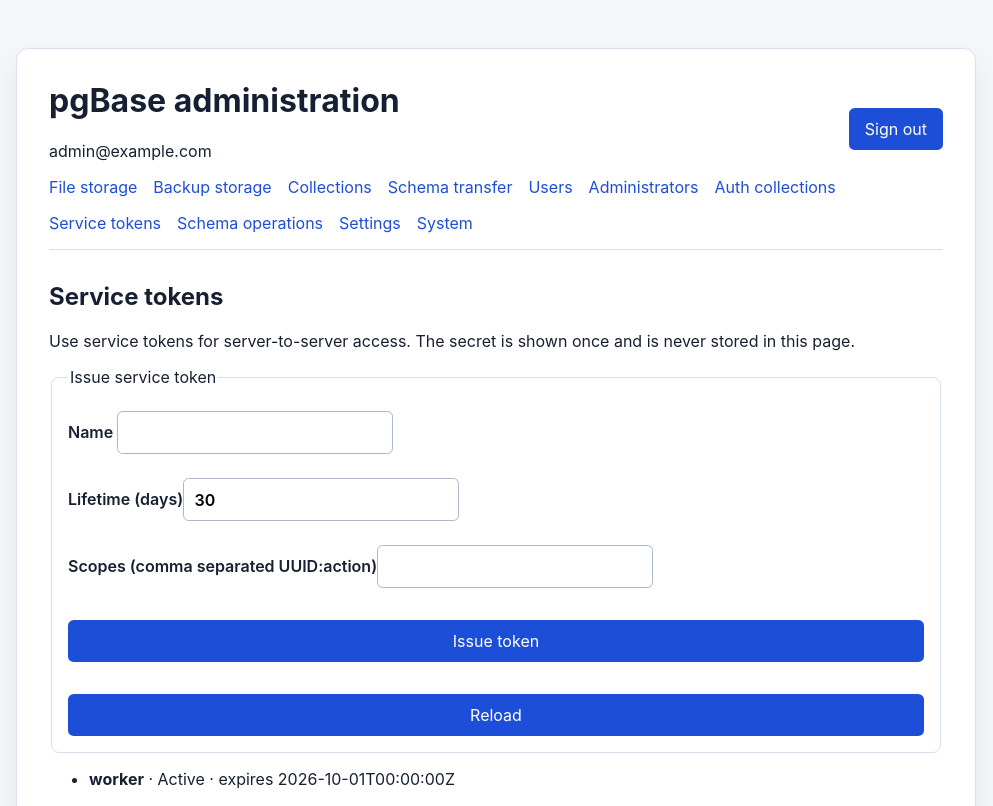
Test: service tokens page › lists, issues, reveals once, and revokes a service token
The image size is (993, 806).
expect the text "worker" is shown: met, box [89,769,144,789]
Type "exporter" into the field labelled "Name". click: (255,433)
box: [117,411,393,454]
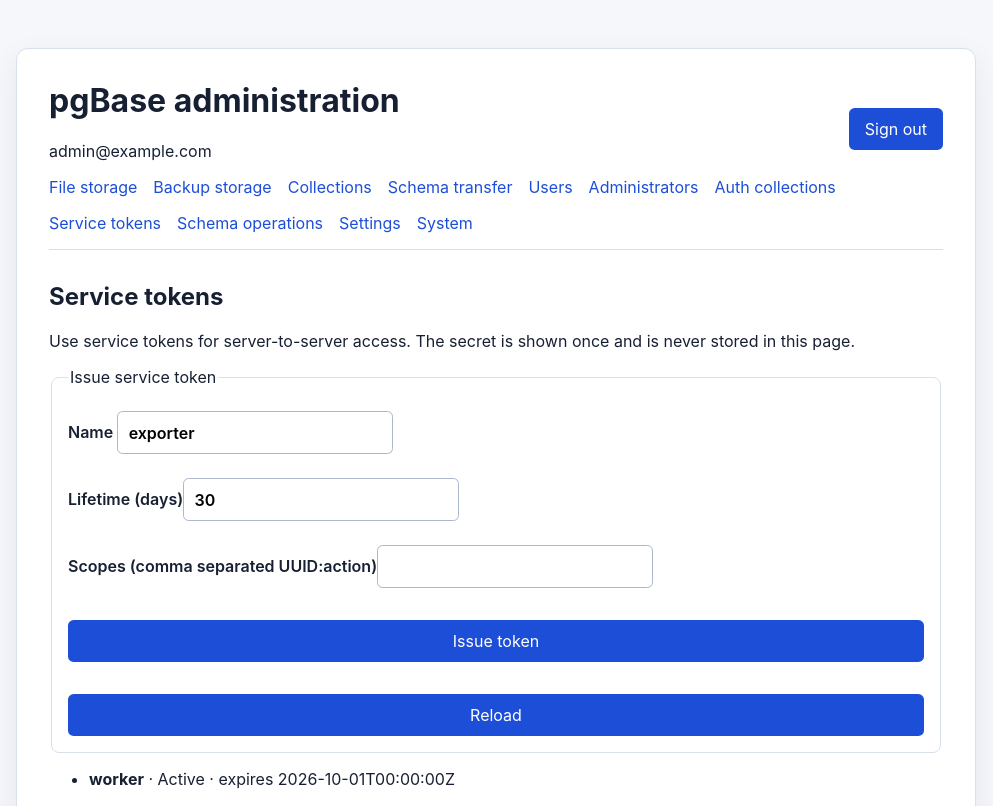
Type "0199ab10-0000-7000-8000-000000000099:read, 0199ab10-0000-7000-8000-000000000099:update" into the field labelled "Scopes (comma separated UUID:action)". click: (515,566)
box: [377,545,653,588]
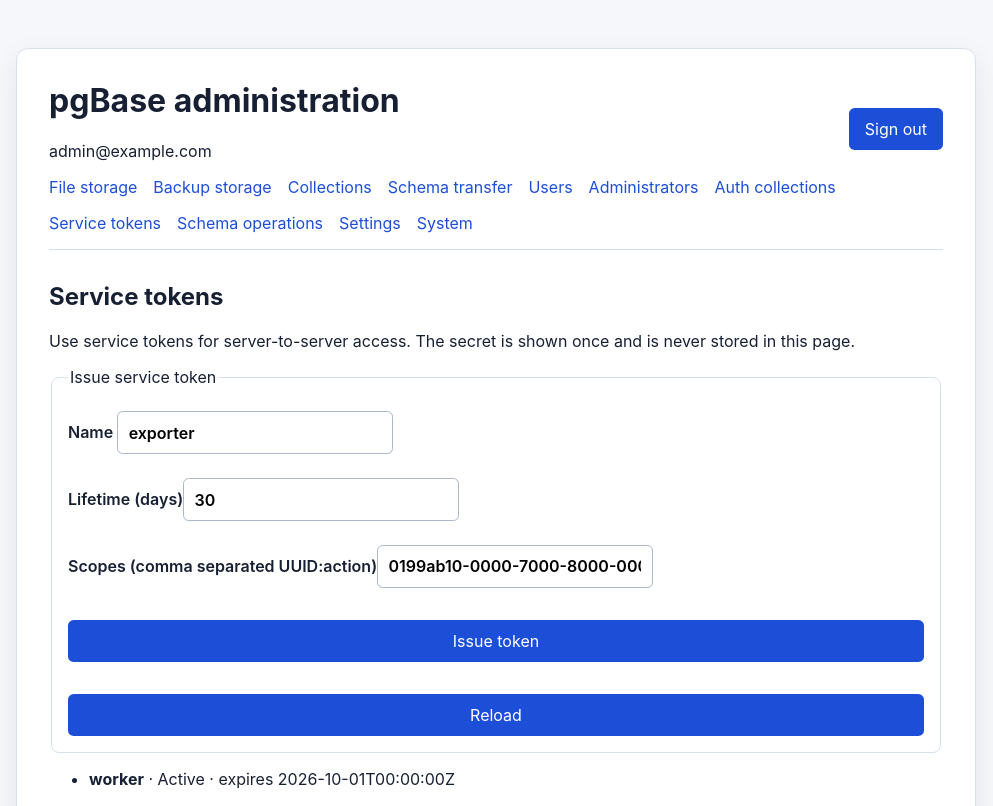
Click the button "Issue token". click: (496,641)
box: [68,620,924,662]
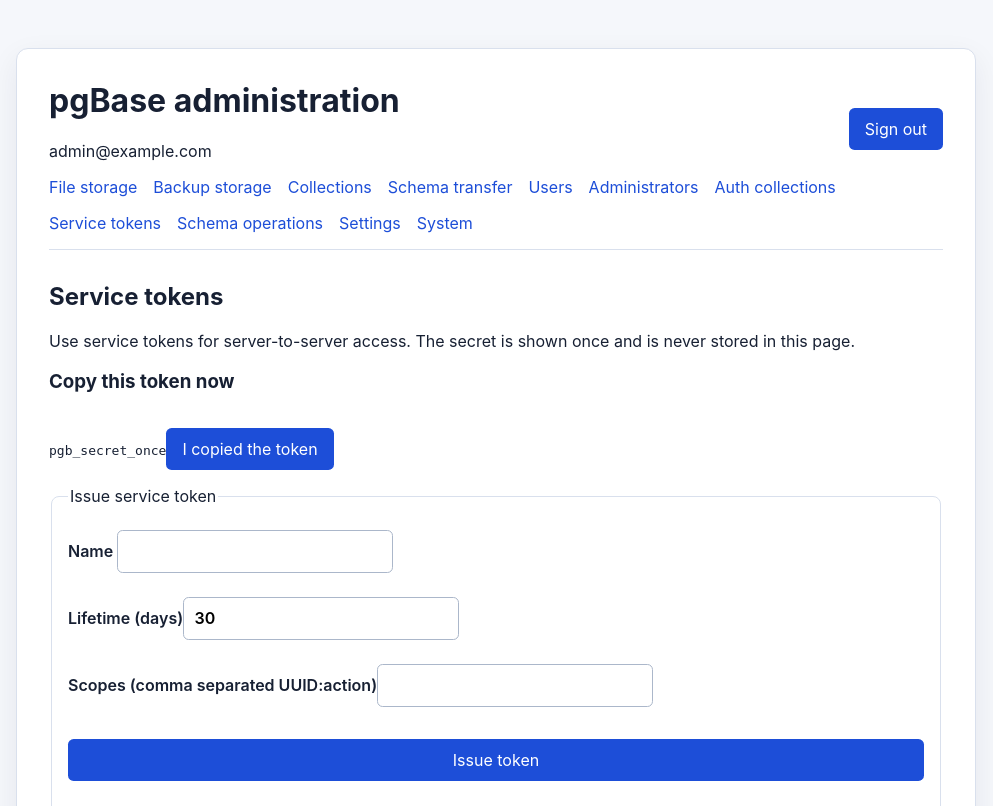
expect the text "pgb_secret_once" is shown: met, box [49,443,166,458]
Click the button "I copied the token". click: (250,449)
box: [166,428,334,470]
(page scrolled)
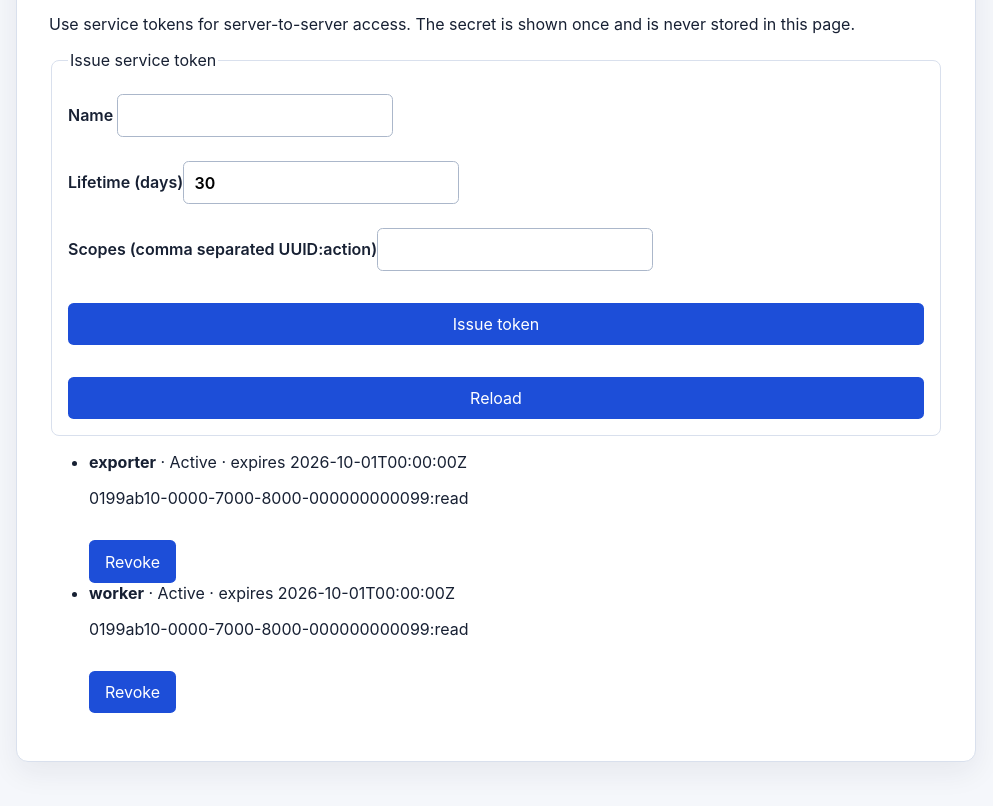
expect the text "pgb_secret_once" is gone: met
Click the button "Revoke" below "exporter". click: (133,562)
box: [89,540,176,583]
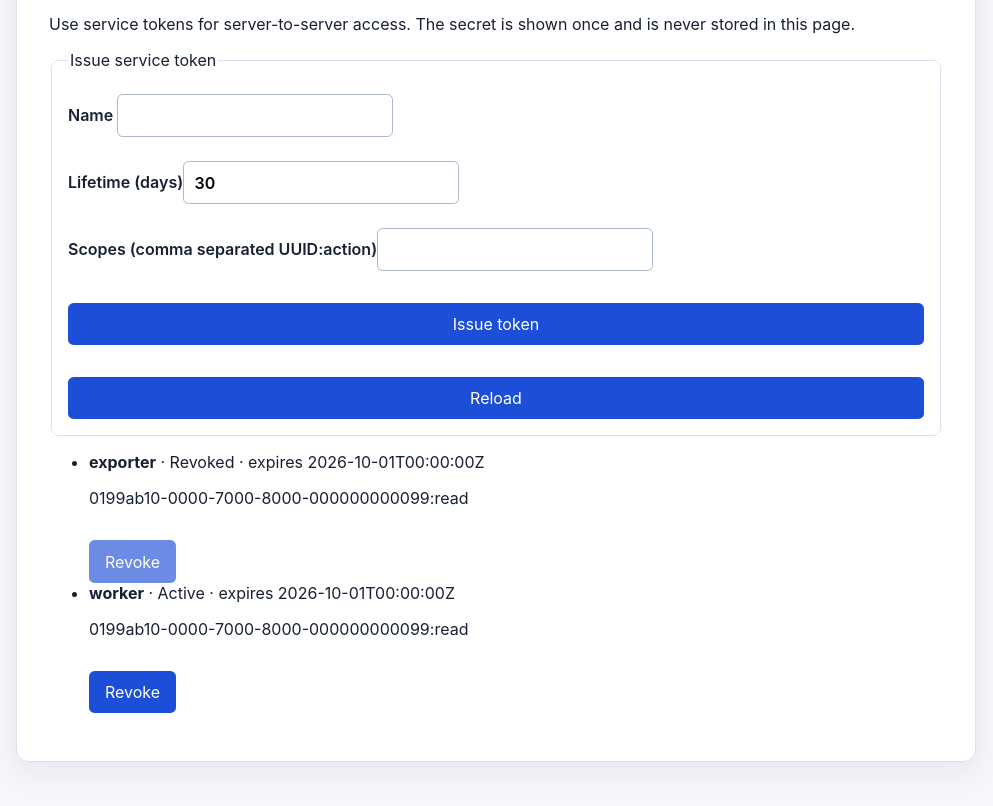
expect the list named "Service tokens" shows "Revoked": met, box [170,452,234,472]
